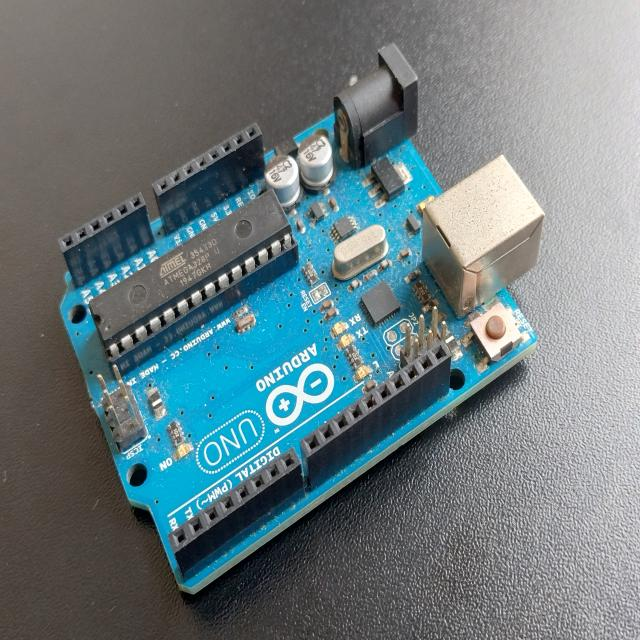arduino: (54, 42, 552, 620)
